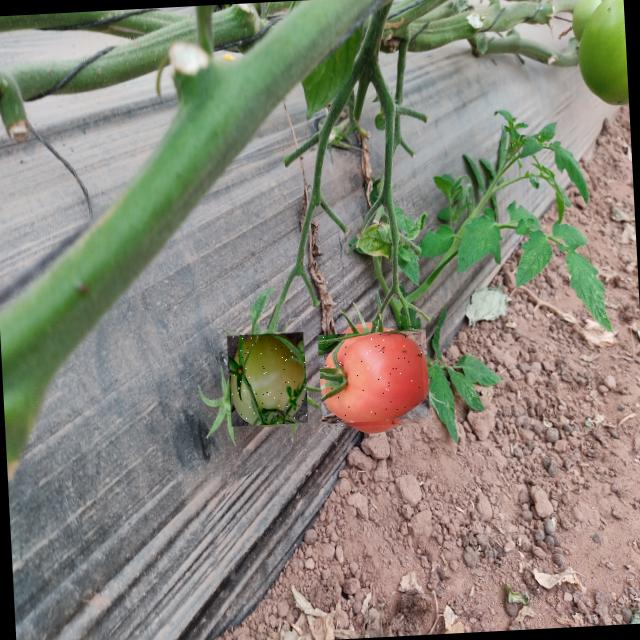Ripe Tomato: (322, 325, 426, 428)
Unripe Tomato: (226, 332, 308, 427)
